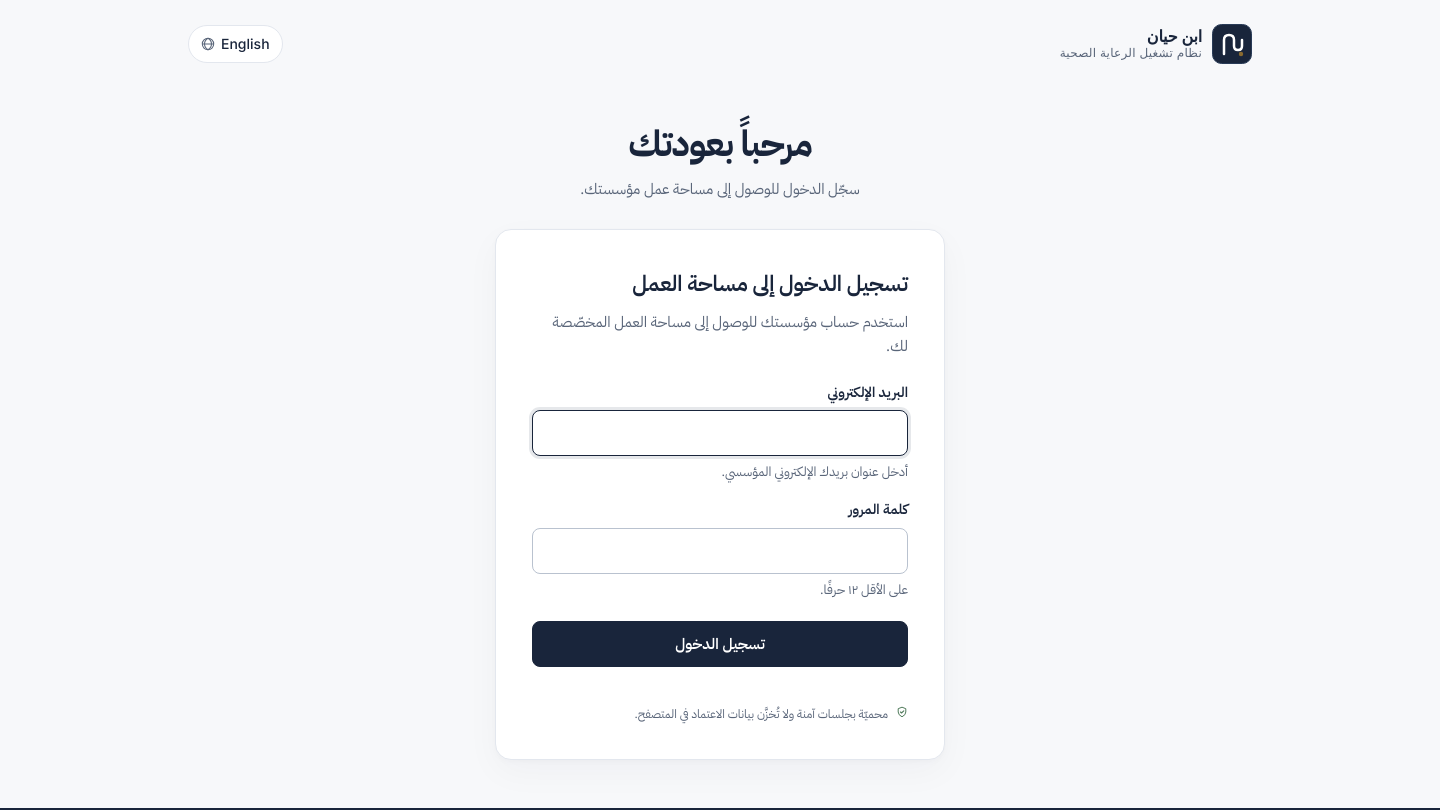
Test: LoginPage (direct-link route) › displays an inline loading label on submit (not technical loading text)
The width and height of the screenshot is (1440, 810).
expect the button "تسجيل الدخول" is shown: met, box [532, 621, 908, 667]
Type "test@example.invalid" into the field labelled "البريد الإلكتروني".
click(720, 433); type("test@example.invalid")  # box [532, 410, 908, 456]
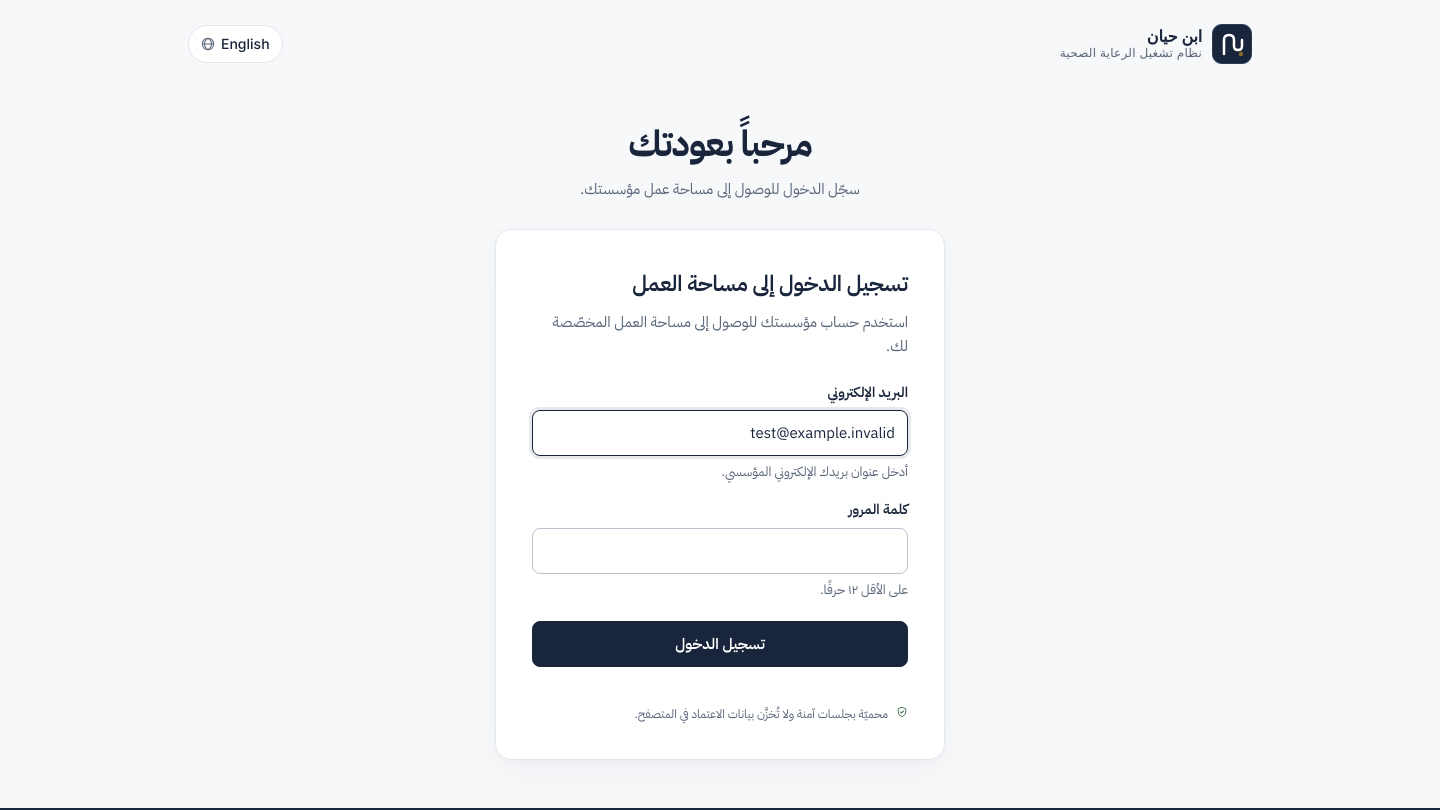
Type "sufficiently-long-password" into the password field labelled "كلمة المرور".
click(720, 551); type("sufficiently-long-password")  # box [532, 528, 908, 574]
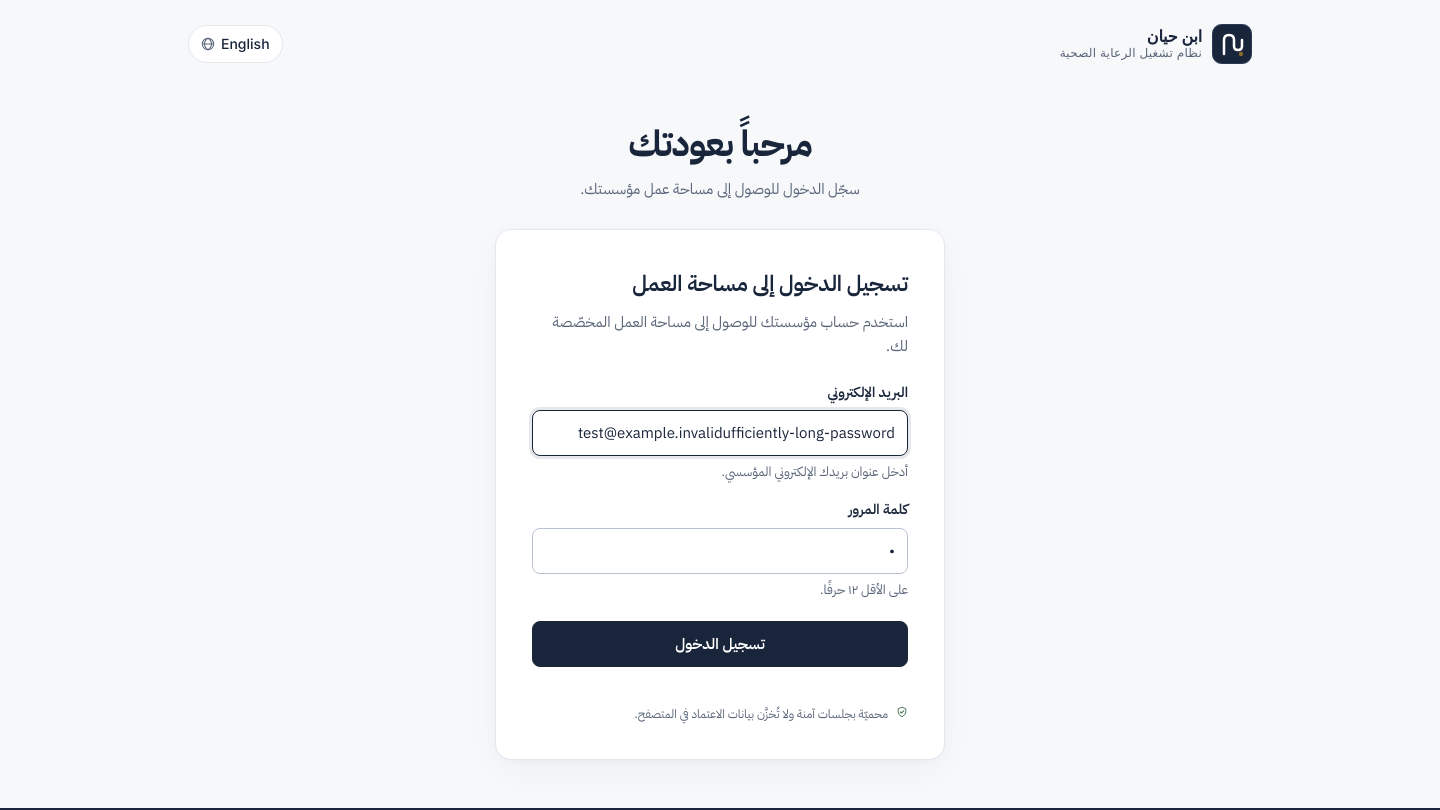
Click the button "تسجيل الدخول".
click(720, 644)  # box [532, 621, 908, 667]
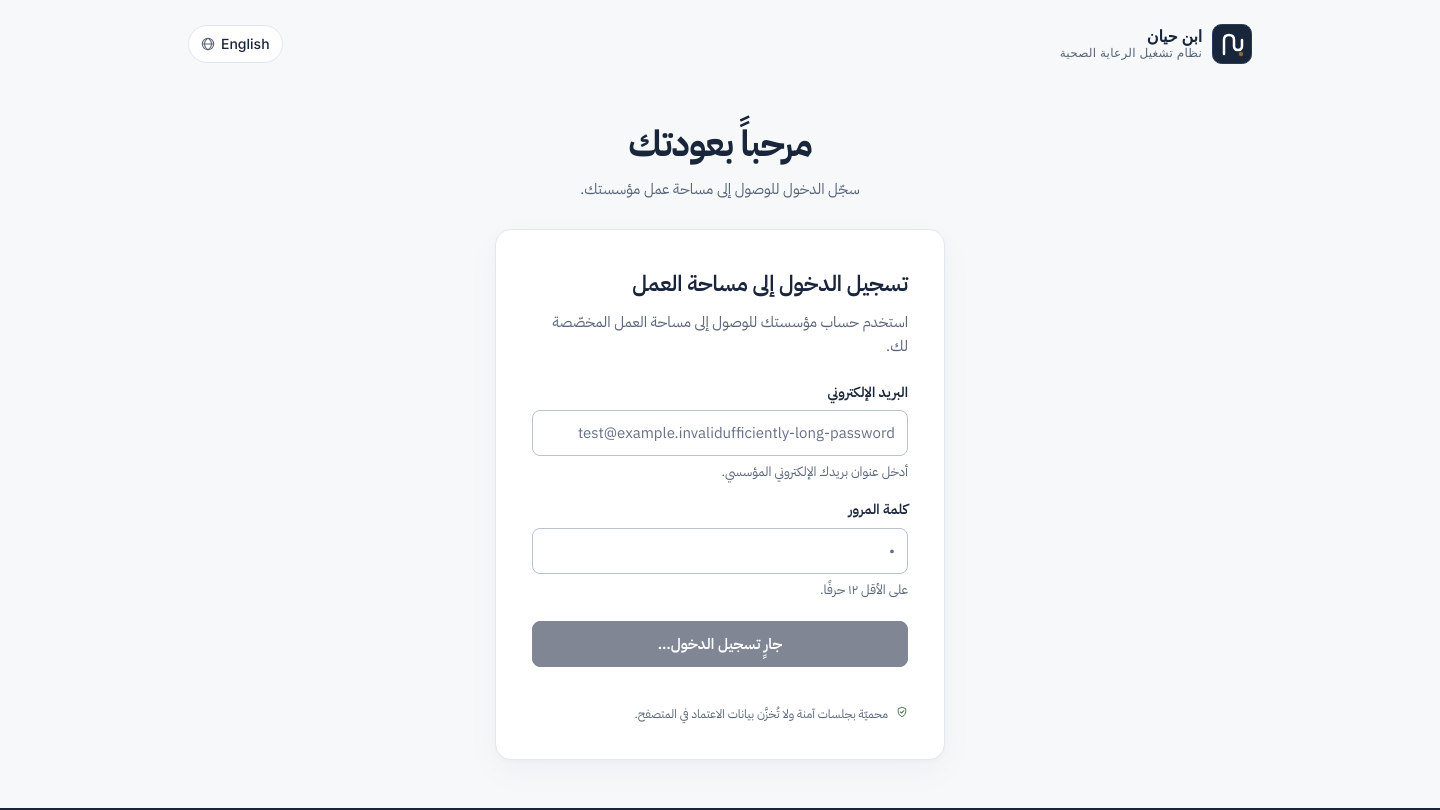
expect the button "جارٍ تسجيل الدخول…" is shown: met, box [532, 621, 908, 667]
